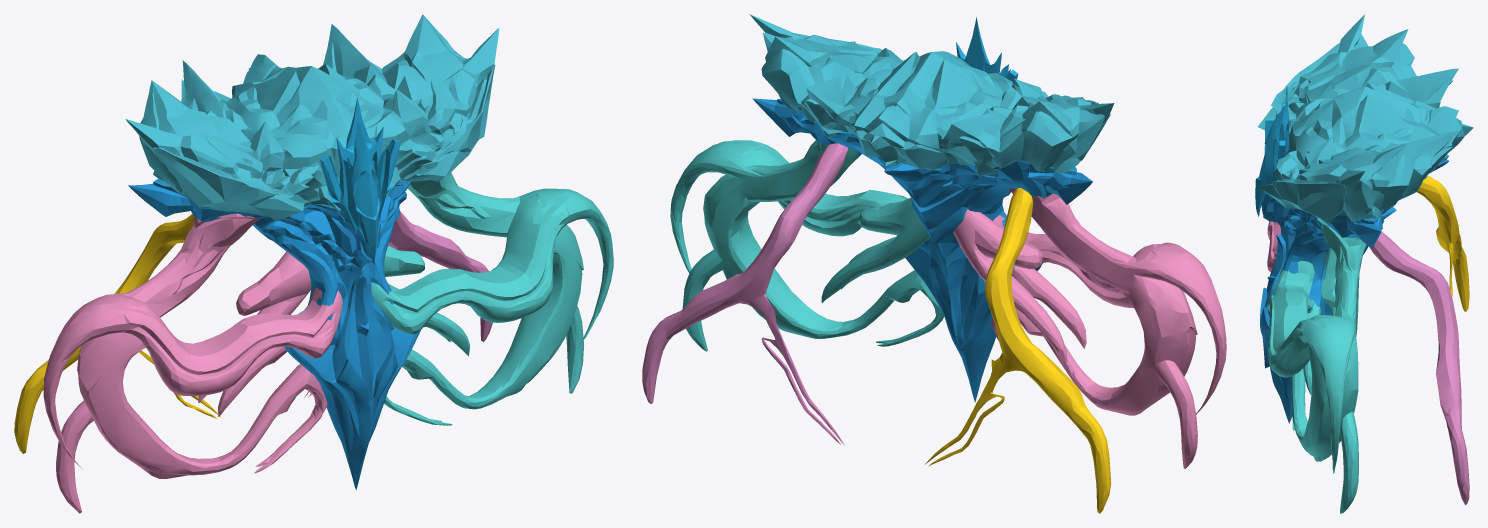
3 renders of one model, left to right at view 1: azimuth 30°, elevation 25°; view 2: azimuth 150°, elevation 25°; view 3: azimuth 270°, elevation 25°, orthographic. The views are drawn at different scales.
Visible parts, largest first — view 1: root.0, root.2, root.1, root.3, root.6, root.4, root.5; view 2: root.0, root.2, root.1, root.3, root.4, root.5, root.6; view 3: root.0, root.1, root.3, root.5, root.4, root.6, root.2.
Part boxes in pixels (box(x1,y1,x2,y2)): root.0: box(125, 14, 499, 221); root.2: box(43, 213, 342, 513); root.1: box(371, 172, 613, 425); root.3: box(128, 178, 420, 489); root.6: box(320, 97, 400, 262); root.4: box(14, 214, 221, 453); root.5: box(304, 210, 492, 397); root.0: box(749, 14, 1114, 175); root.2: box(953, 188, 1226, 468); root.1: box(670, 140, 944, 351); root.3: box(752, 98, 1092, 402); root.4: box(925, 188, 1111, 513); root.5: box(642, 143, 847, 445); root.6: box(956, 17, 1018, 81); root.0: box(1258, 14, 1473, 223); root.1: box(1267, 218, 1366, 513); root.3: box(1260, 155, 1448, 423); root.5: box(1369, 231, 1469, 504); root.4: box(1416, 176, 1469, 311); root.6: box(1255, 85, 1289, 216); root.2: box(1267, 221, 1280, 272).
Bounding box in the file's own units: 183 × 122 × 70.78.
